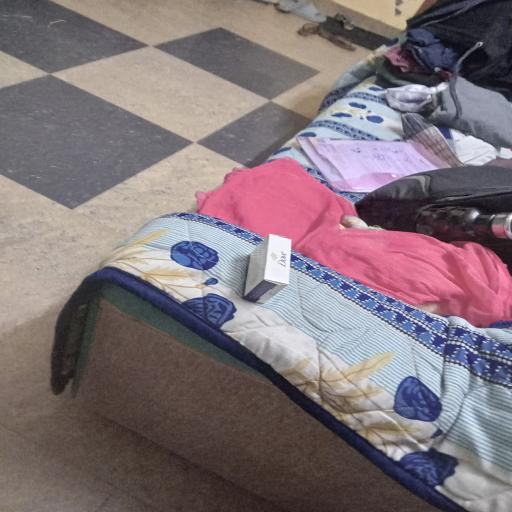Dove`1: (241, 231, 297, 309)
